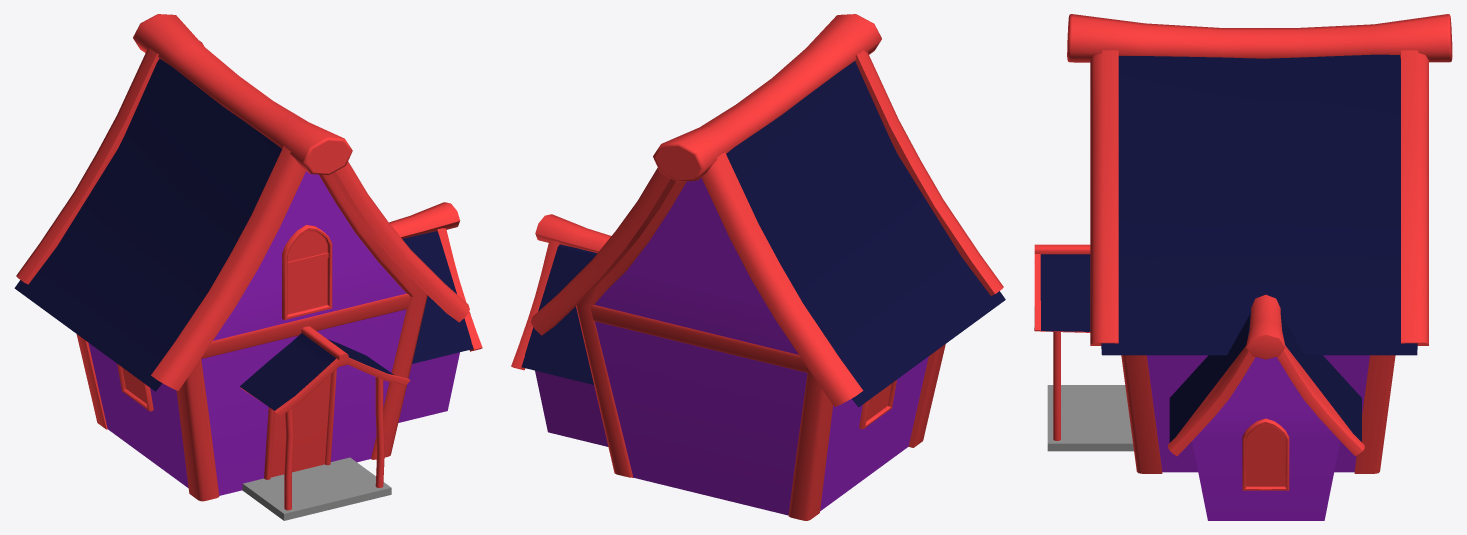
Rendered from casa.fbx.
3 renders of one model, left to right at view 1: azimuth 30°, elevation 25°; view 2: azimuth 150°, elevation 25°; view 3: azimuth 270°, elevation 25°, orthographic. The views are drawn at different scales.
Visible parts, largest first — view 1: madera, casa, tejado_iglesia_low001; view 2: madera, tejado_iglesia_low001; view 3: madera, tejado_iglesia_low001, casa.
Boxes of the visible parts, x1,y1,x2,y2 form: madera: [14, 14, 482, 510]; casa: [242, 457, 391, 520]; tejado_iglesia_low001: [402, 231, 473, 363]; madera: [511, 14, 1005, 520]; tejado_iglesia_low001: [521, 244, 597, 384]; madera: [1034, 14, 1452, 520]; tejado_iglesia_low001: [1169, 313, 1361, 442]; casa: [1047, 385, 1133, 451].
Bounding box in the file's own units: 626 × 586 × 548.
